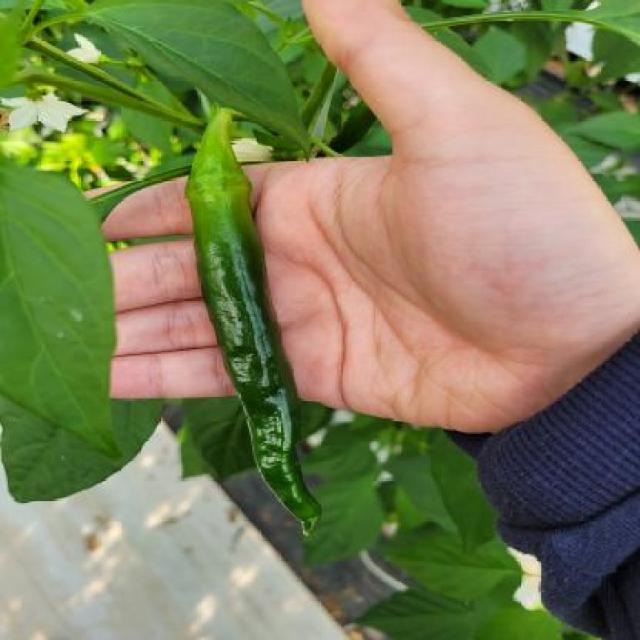green chilli: (188, 188, 323, 535)
